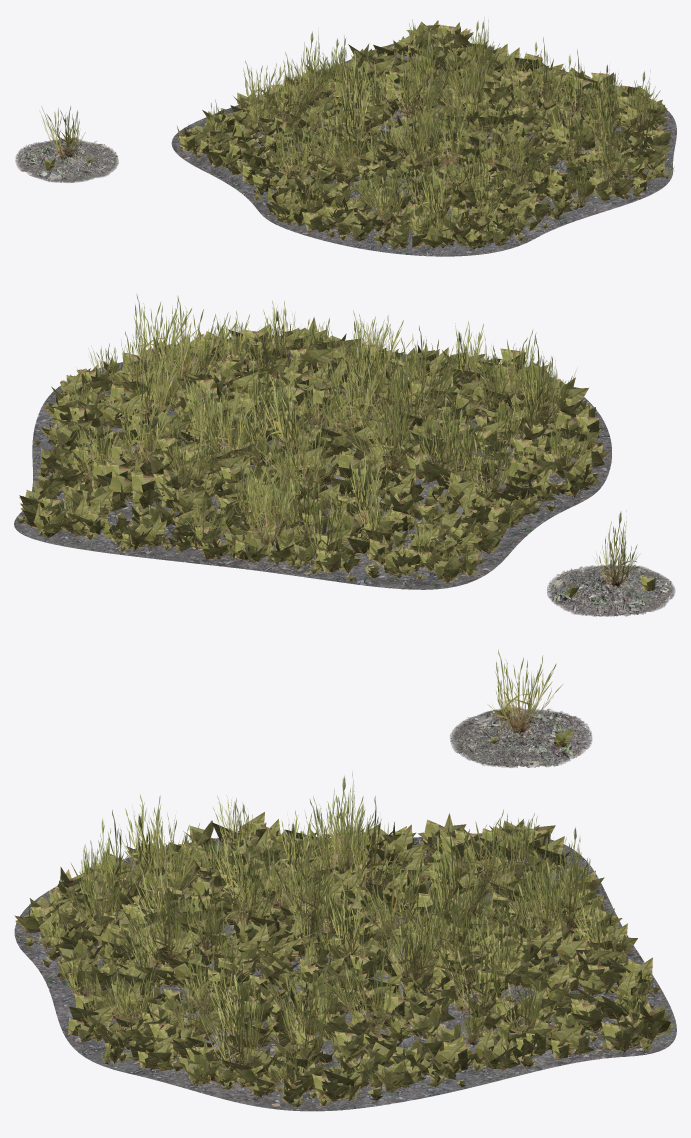
The model's file is simple_grass_chunks.glb.
3 renders of one model, top to bottom at view 1: azimuth 30°, elevation 25°; view 2: azimuth 150°, elevation 25°; view 3: azimuth 270°, elevation 25°, orthographic. The views are drawn at different scales.
Visible parts, largest first — view 1: Forest001, rostlinka_7c_scater, ground_close_04, rostlinka_07_ground_rostlinka_07_ground_0, rostlinka_07c; view 2: Forest001, rostlinka_7c_scater, ground_close_04, rostlinka_07_ground_rostlinka_07_ground_0, rostlinka_07c; view 3: Forest001, rostlinka_7c_scater, ground_close_04, rostlinka_07_ground_rostlinka_07_ground_0, rostlinka_07c.
Boxes of the visible parts, box(x1,y1,x2,y2) form: Forest001: box(177, 20, 671, 249); rostlinka_7c_scater: box(191, 17, 674, 234); ground_close_04: box(171, 42, 676, 256); rostlinka_07_ground_rostlinka_07_ground_0: box(15, 137, 118, 182); rostlinka_07c: box(39, 106, 85, 160); Forest001: box(17, 317, 609, 583); rostlinka_7c_scater: box(59, 293, 593, 567); ground_close_04: box(14, 335, 611, 589); rostlinka_07_ground_rostlinka_07_ground_0: box(547, 564, 675, 616); rostlinka_07c: box(595, 511, 638, 590); Forest001: box(14, 812, 673, 1107); rostlinka_7c_scater: box(45, 772, 652, 1087); ground_close_04: box(14, 833, 676, 1111); rostlinka_07_ground_rostlinka_07_ground_0: box(450, 706, 592, 767); rostlinka_07c: box(487, 649, 562, 734).
Size of the model in its own units: 3.75 by 0.7453 by 2.76.
4 materials, 4 textured.
